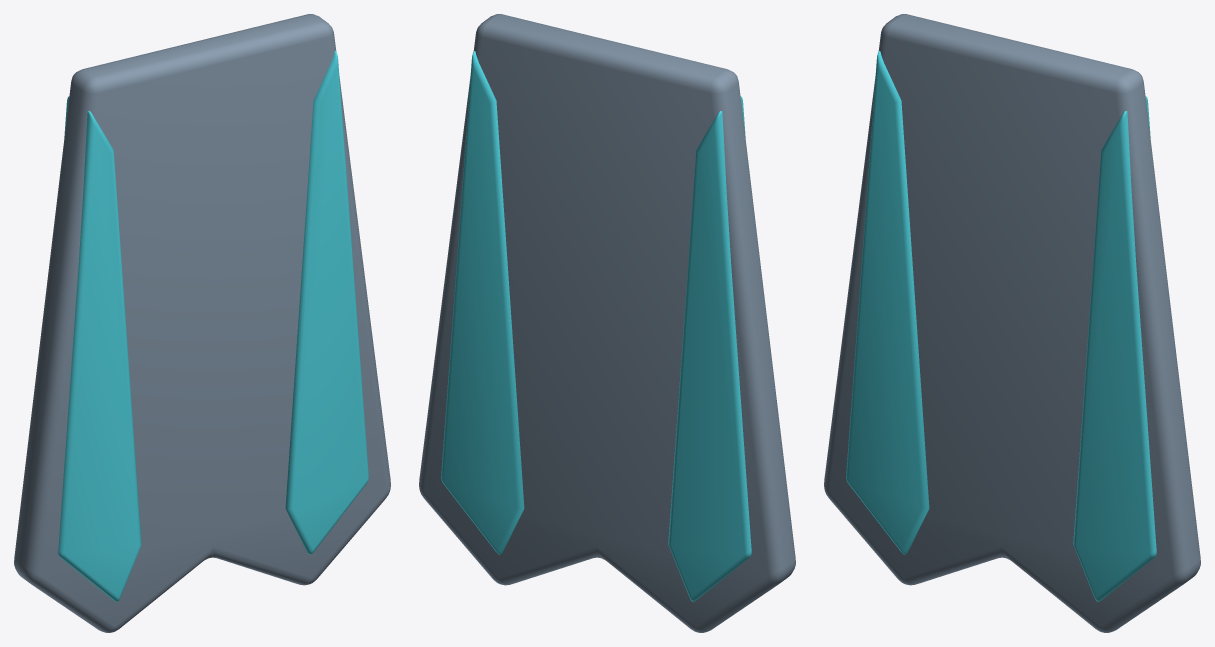
Rendered from cloak_v8.glb.
3 renders of one model, left to right at view 1: azimuth 30°, elevation 25°; view 2: azimuth 150°, elevation 25°; view 3: azimuth 330°, elevation 25°, orthographic.
Parts seen in each view (by area): view 1: CEREMONIAL_CLOAK_PRIMARY, CEREMONIAL_BORDER_ACCENT, CEREMONIAL_BORDER_ACCENT.001; view 2: CEREMONIAL_CLOAK_PRIMARY, CEREMONIAL_BORDER_ACCENT, CEREMONIAL_BORDER_ACCENT.001; view 3: CEREMONIAL_CLOAK_PRIMARY, CEREMONIAL_BORDER_ACCENT.001, CEREMONIAL_BORDER_ACCENT.
Part boxes in pixels (box(x1,y1,x2,y2)): CEREMONIAL_CLOAK_PRIMARY: box(14, 14, 390, 632); CEREMONIAL_BORDER_ACCENT: box(58, 96, 141, 601); CEREMONIAL_BORDER_ACCENT.001: box(285, 51, 368, 554); CEREMONIAL_CLOAK_PRIMARY: box(419, 14, 795, 632); CEREMONIAL_BORDER_ACCENT: box(668, 96, 751, 601); CEREMONIAL_BORDER_ACCENT.001: box(441, 51, 524, 554); CEREMONIAL_CLOAK_PRIMARY: box(824, 14, 1200, 632); CEREMONIAL_BORDER_ACCENT.001: box(1073, 96, 1156, 601); CEREMONIAL_BORDER_ACCENT: box(846, 51, 929, 554).
Bounding box in the file's own units: 1.83 × 2.67 × 0.23.
